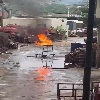fire: (35, 34, 53, 45)
